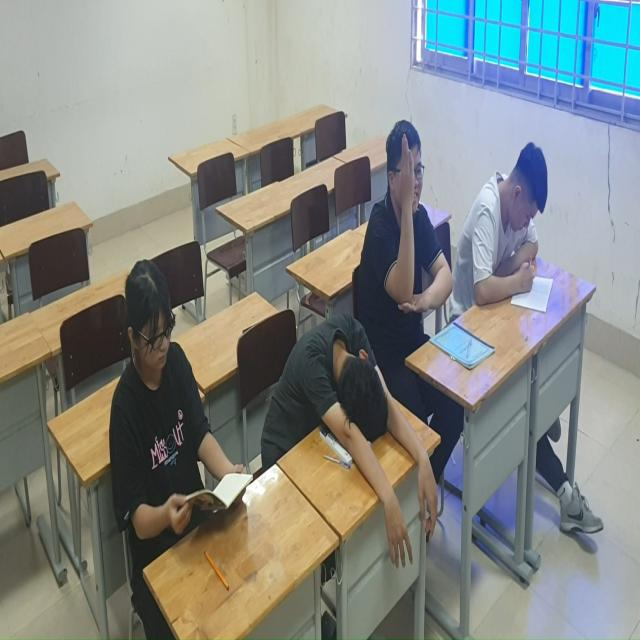raise_hand: (378, 120, 457, 337)
read: (108, 259, 250, 548), (470, 134, 558, 321)
sleep: (263, 312, 425, 490)
